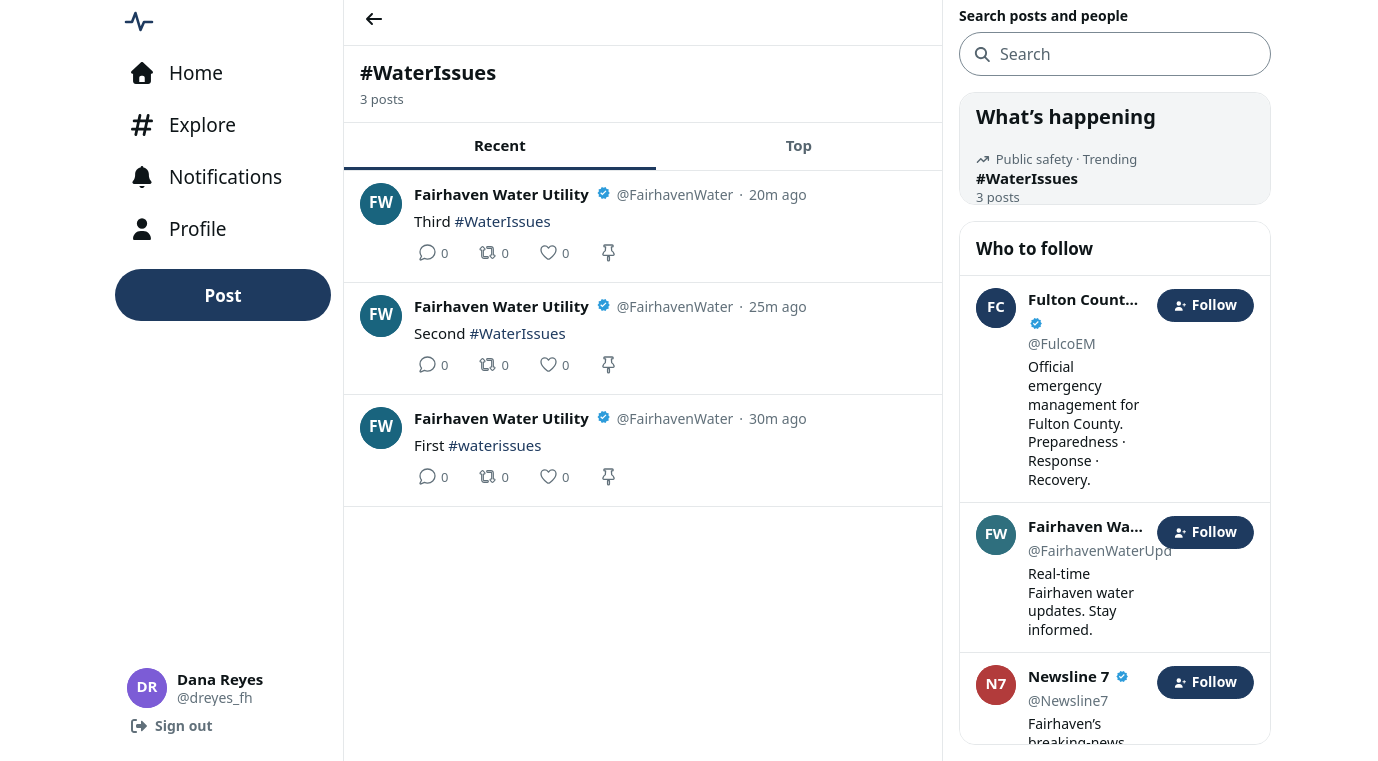
Test: the hashtag page, by deep link (M6) › cards on the hashtag page can Reply: F1's route gives them a thread opener
This screenshot has width=1378, height=761.
Expected: the element with test id "post-card" that starts with "Fairhaven Water Utility" is shown, [344, 170, 942, 282]
Step 1. Click the button named "Reply" → (434, 252), box [414, 240, 454, 266]
(page scrolled)
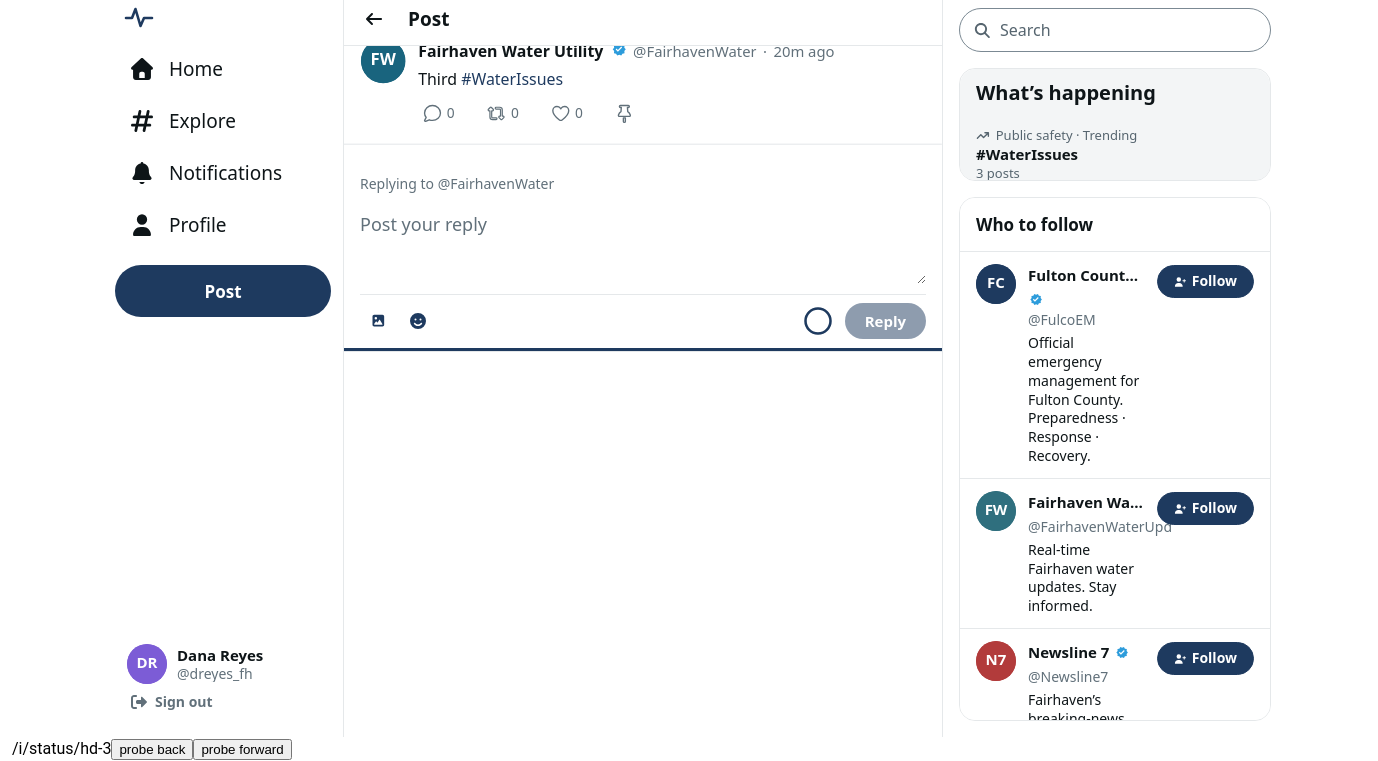
Expected: the text with test id "router-location" shows "/status/hd-3", [12, 739, 112, 758]
